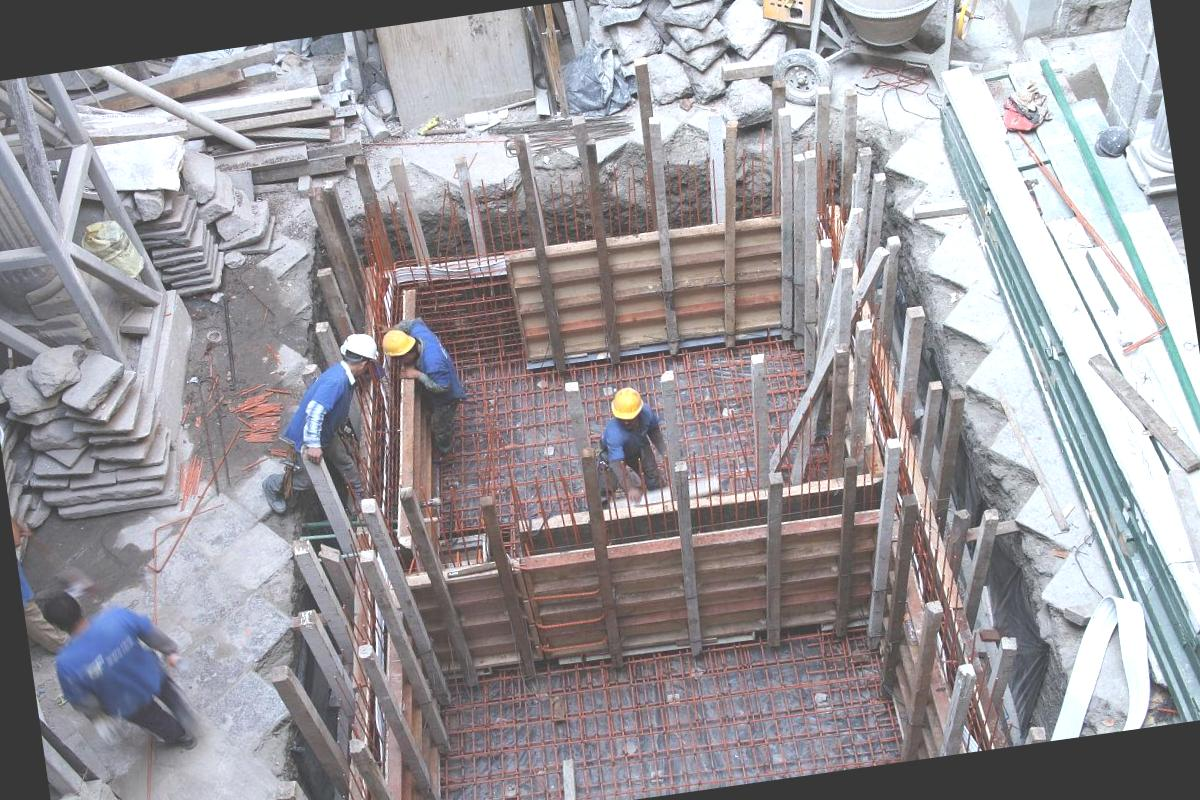helmet: (602, 378, 660, 443), (372, 320, 428, 374)
no_vest: (44, 618, 184, 744)
person: (24, 563, 221, 781), (262, 325, 398, 514), (585, 371, 672, 505), (374, 302, 465, 406)
